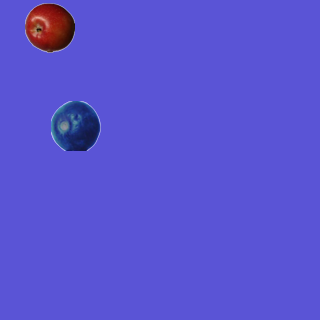Apple Braeburn: (24, 2, 74, 52)
Huckleberry: (50, 100, 100, 150)
